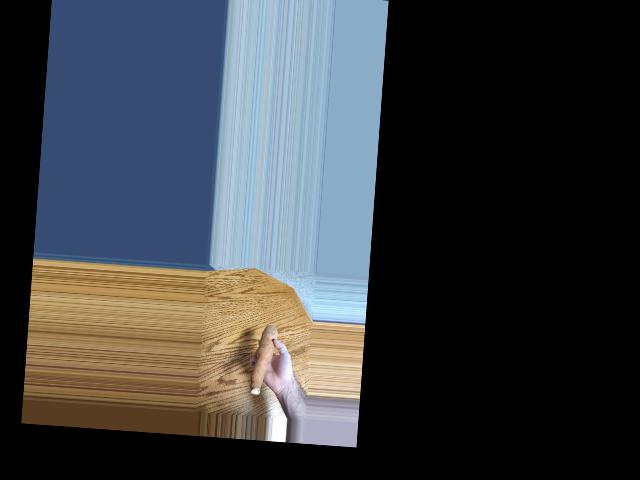sweet_potato: (249, 319, 276, 393)
